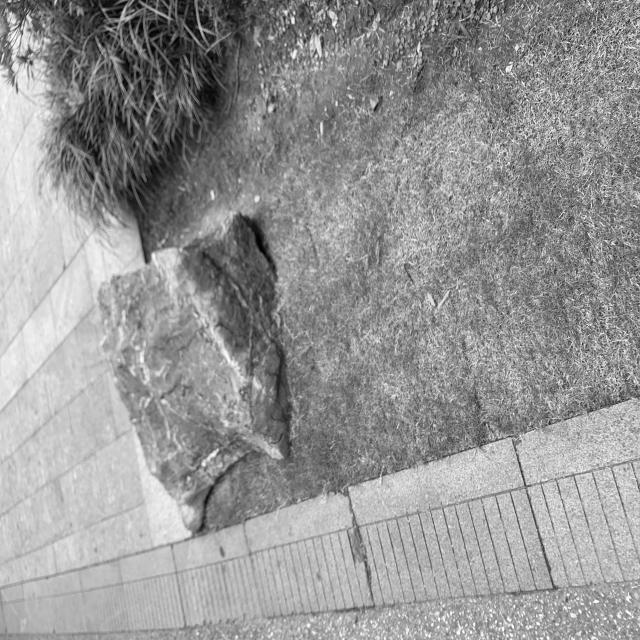Stone: (99, 212, 288, 530)
